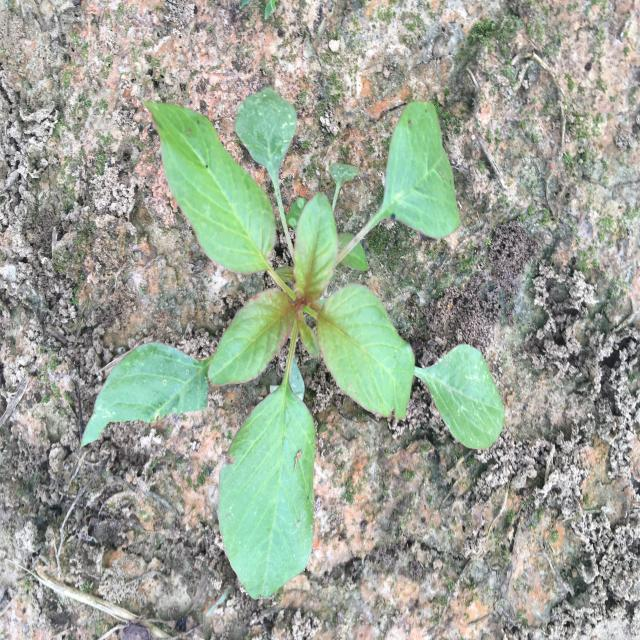PalmerAmaranth: (82, 89, 506, 602)
